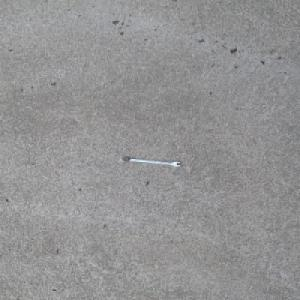Wrench: (120, 156, 181, 167)
